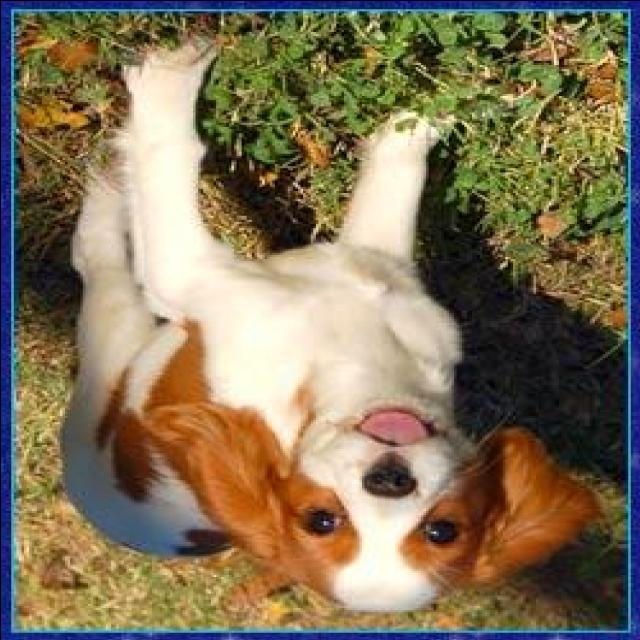blenheim_spaniel: (56, 31, 602, 615)
